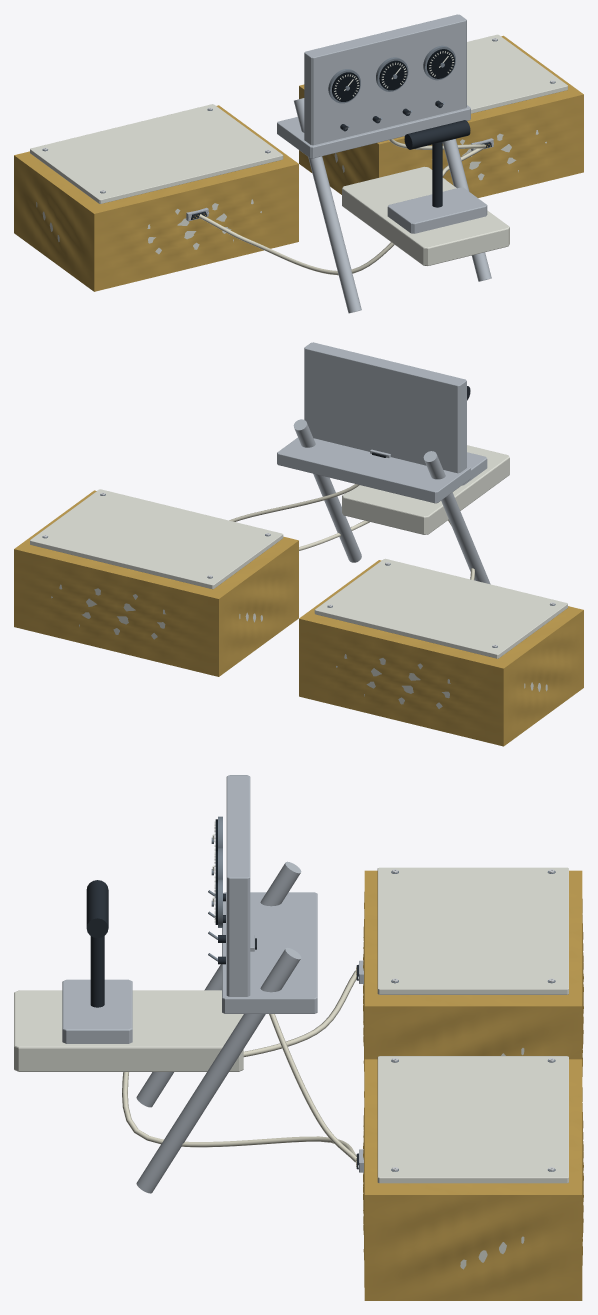
Rendered from lrv-seats.glb.
3 renders of one model, top to bottom at view 1: azimuth 30°, elevation 25°; view 2: azimuth 150°, elevation 25°; view 3: azimuth 270°, elevation 25°, orthographic. The views are drawn at different scales.
Parts seen in each view (by area): view 1: BATTERY_COVER_-1_Multilayer_thermal_foil, BATTERY_RADIATOR_-1_White_thermal_coating, BATTERY_COVER_1_Multilayer_thermal_foil, DRIVING_CONSOLE_Machined_aluminium, CONTROL_SUPPORT_White_thermal_coating, CONTROL_SUPPORT_Machined_aluminium, BATTERY_RADIATOR_1_White_thermal_coating, T_CONTROLLER_Machined_aluminium, DRIVING_CONSOLE_Optical_baffle, T_CONTROLLER_Anodized_aluminium, CONSOLE_HARNESS_White_cable_sleeve, DRIVING_CONSOLE_Steel_fixings (+1 smaller); view 2: BATTERY_COVER_-1_Multilayer_thermal_foil, BATTERY_COVER_1_Multilayer_thermal_foil, DRIVING_CONSOLE_Machined_aluminium, BATTERY_RADIATOR_-1_White_thermal_coating, BATTERY_RADIATOR_1_White_thermal_coating, CONTROL_SUPPORT_Machined_aluminium, CONTROL_SUPPORT_White_thermal_coating, CONSOLE_BATTERY_LOOP, BATTERY_-1_White_thermal_coating, BATTERY_1_White_thermal_coating; view 3: BATTERY_COVER_1_Multilayer_thermal_foil, BATTERY_RADIATOR_1_White_thermal_coating, BATTERY_RADIATOR_-1_White_thermal_coating, BATTERY_COVER_-1_Multilayer_thermal_foil, CONTROL_SUPPORT_Machined_aluminium, CONTROL_SUPPORT_White_thermal_coating, DRIVING_CONSOLE_Machined_aluminium, T_CONTROLLER_Machined_aluminium, CONSOLE_HARNESS_White_cable_sleeve, T_CONTROLLER_Anodized_aluminium, CONSOLE_BATTERY_LOOP, DRIVING_CONSOLE_Steel_fixings.
Boxes of the visible parts, <box> form: BATTERY_COVER_-1_Multilayer_thermal_foil: <box>14,105,298,291</box>; BATTERY_RADIATOR_-1_White_thermal_coating: <box>30,104,283,203</box>; BATTERY_COVER_1_Multilayer_thermal_foil: <box>299,35,583,197</box>; DRIVING_CONSOLE_Machined_aluminium: <box>304,14,466,145</box>; CONTROL_SUPPORT_White_thermal_coating: <box>342,166,509,265</box>; CONTROL_SUPPORT_Machined_aluminium: <box>277,98,491,313</box>; BATTERY_RADIATOR_1_White_thermal_coating: <box>467,34,567,113</box>; T_CONTROLLER_Machined_aluminium: <box>387,187,487,233</box>; DRIVING_CONSOLE_Optical_baffle: <box>332,49,454,101</box>; T_CONTROLLER_Anodized_aluminium: <box>404,120,470,207</box>; CONSOLE_HARNESS_White_cable_sleeve: <box>198,147,485,275</box>; DRIVING_CONSOLE_Steel_fixings: <box>328,45,455,129</box>; BATTERY_COVER_-1_Multilayer_thermal_foil: <box>299,560,583,746</box>; BATTERY_COVER_1_Multilayer_thermal_foil: <box>14,490,298,676</box>; DRIVING_CONSOLE_Machined_aluminium: <box>304,342,466,473</box>; BATTERY_RADIATOR_-1_White_thermal_coating: <box>314,558,567,658</box>; BATTERY_RADIATOR_1_White_thermal_coating: <box>30,489,283,589</box>; CONTROL_SUPPORT_Machined_aluminium: <box>277,419,490,584</box>; CONTROL_SUPPORT_White_thermal_coating: <box>342,445,509,534</box>; CONSOLE_BATTERY_LOOP: <box>229,484,359,521</box>; BATTERY_-1_White_thermal_coating: <box>336,654,547,708</box>; BATTERY_1_White_thermal_coating: <box>51,584,262,639</box>; BATTERY_COVER_1_Multilayer_thermal_foil: <box>363,1059,583,1300</box>; BATTERY_RADIATOR_1_White_thermal_coating: <box>377,1056,568,1183</box>; BATTERY_RADIATOR_-1_White_thermal_coating: <box>377,867,568,994</box>; BATTERY_COVER_-1_Multilayer_thermal_foil: <box>363,870,583,1079</box>; CONTROL_SUPPORT_Machined_aluminium: <box>136,861,317,1193</box>; CONTROL_SUPPORT_White_thermal_coating: <box>14,990,243,1071</box>; DRIVING_CONSOLE_Machined_aluminium: <box>226,775,254,996</box>; T_CONTROLLER_Machined_aluminium: <box>62,979,132,1043</box>; CONSOLE_HARNESS_White_cable_sleeve: <box>122,970,356,1161</box>; T_CONTROLLER_Anodized_aluminium: <box>86,880,108,1007</box>; CONSOLE_BATTERY_LOOP: <box>269,1014,356,1162</box>; DRIVING_CONSOLE_Steel_fixings: <box>208,816,222,961</box>.
Bounding box in the file's own units: 0.985 × 0.4545 × 0.728.
